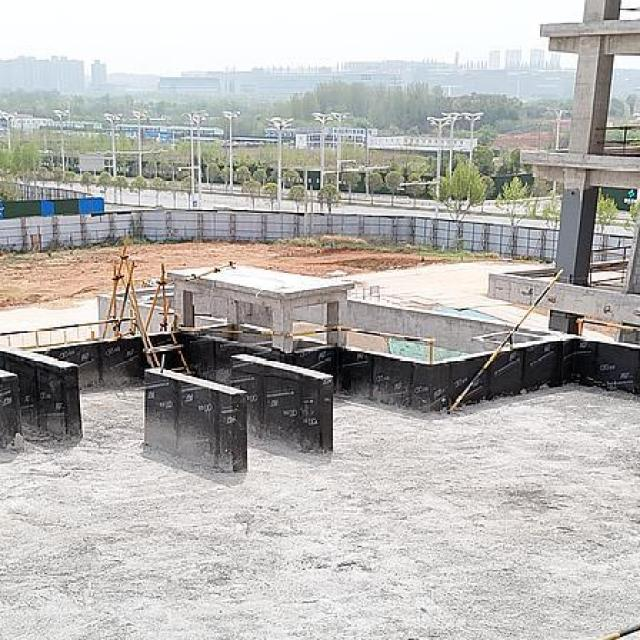edge_guardrail: (446, 266, 566, 417), (171, 323, 436, 367), (0, 316, 137, 348), (588, 245, 632, 285), (594, 125, 640, 155), (573, 317, 640, 336), (595, 623, 640, 640)
